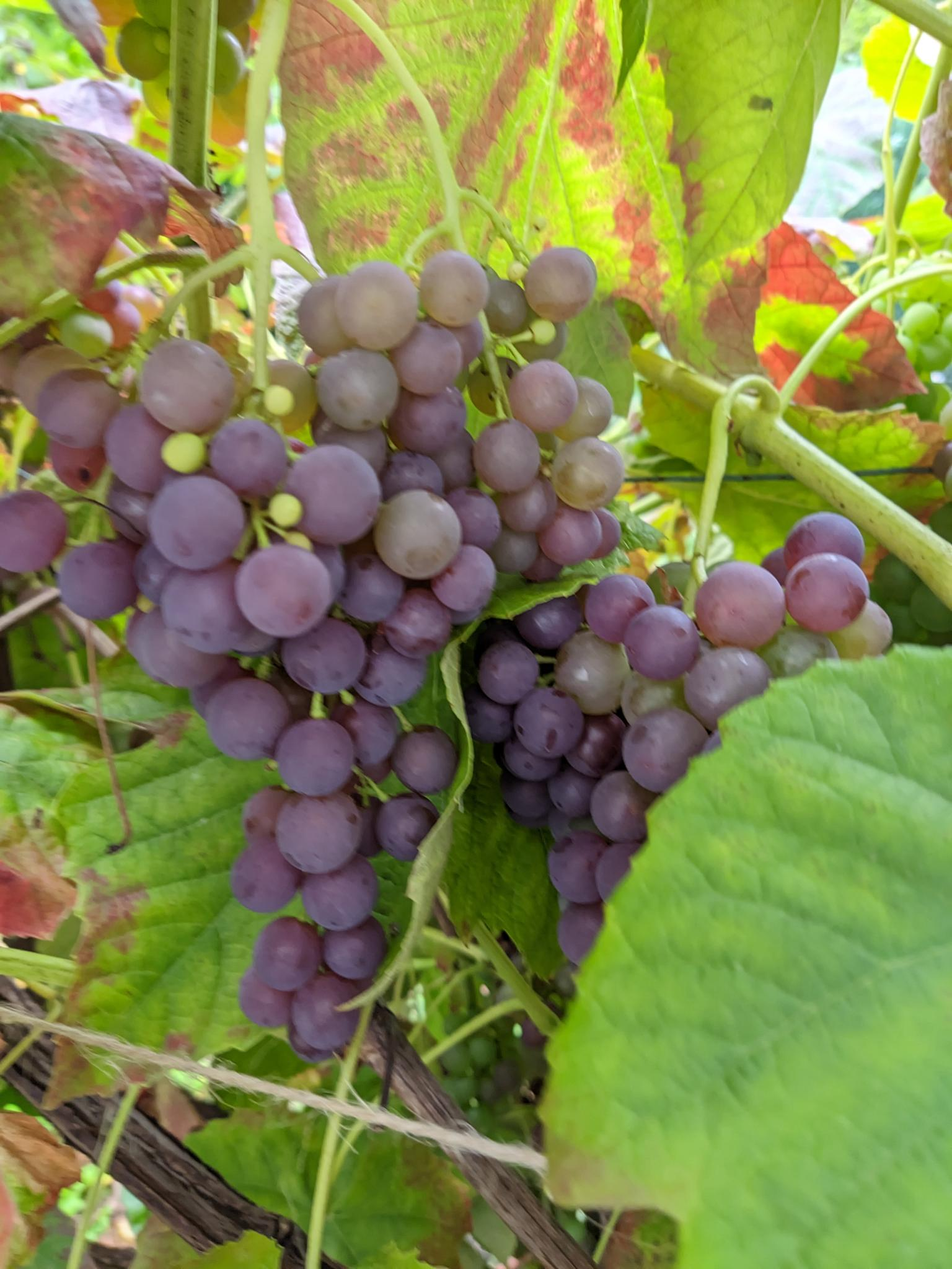Grape Ripe: (0, 339, 491, 1061), (485, 511, 895, 969), (298, 251, 622, 582)
Grape Unripe: (116, 0, 259, 124), (868, 257, 952, 411)
